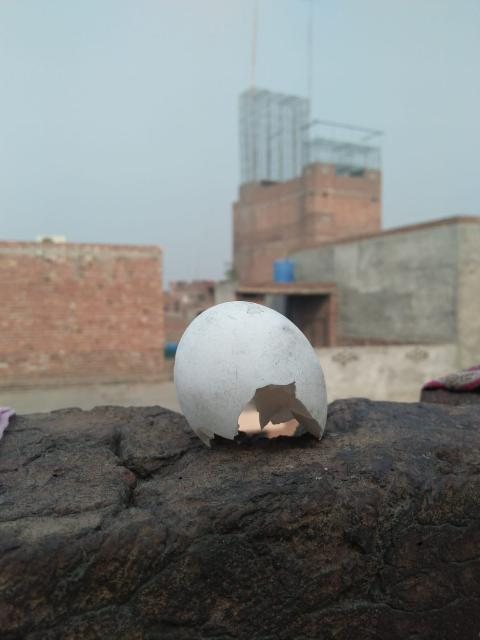Roto: (172, 299, 328, 448)
